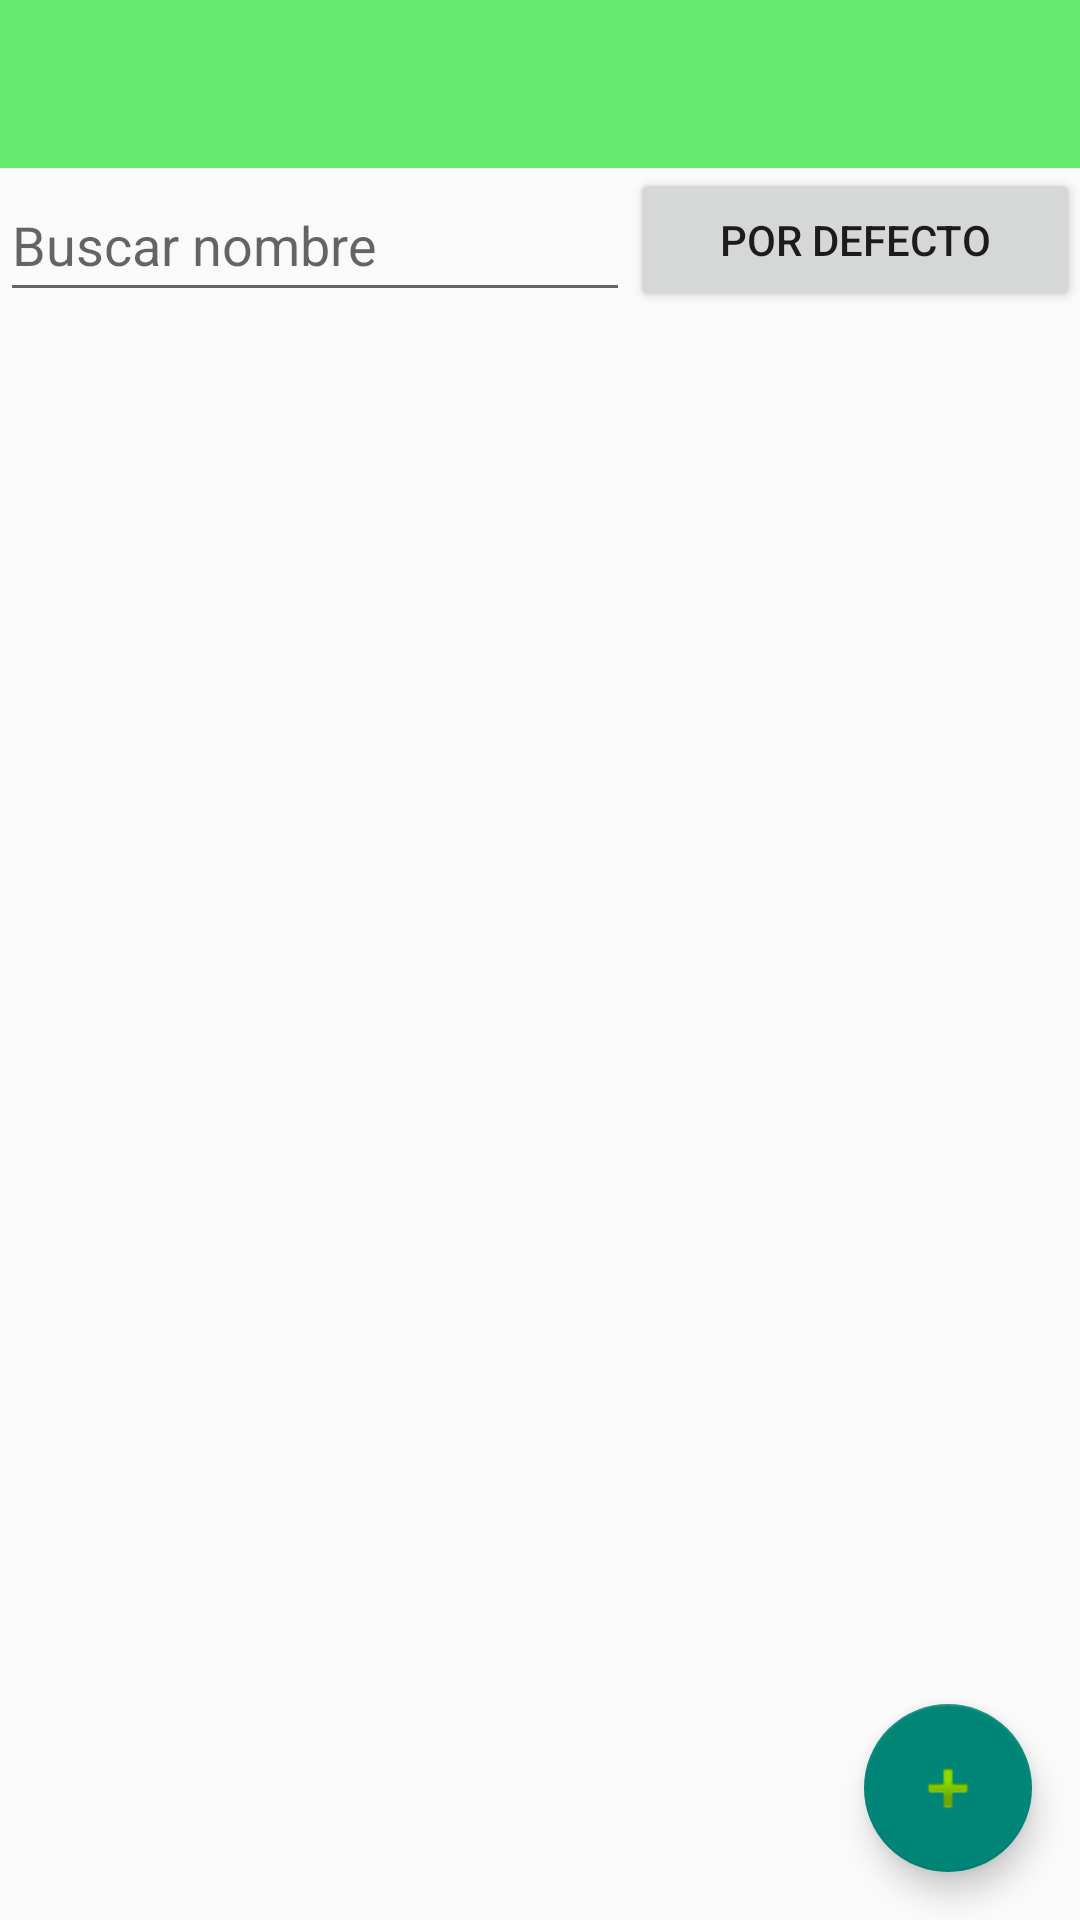

Screen size 1080x1920. Icon name, then its box in pixels as (x1, y1, x2, y2):
Añadir tienda: (864, 1704, 1032, 1872)
